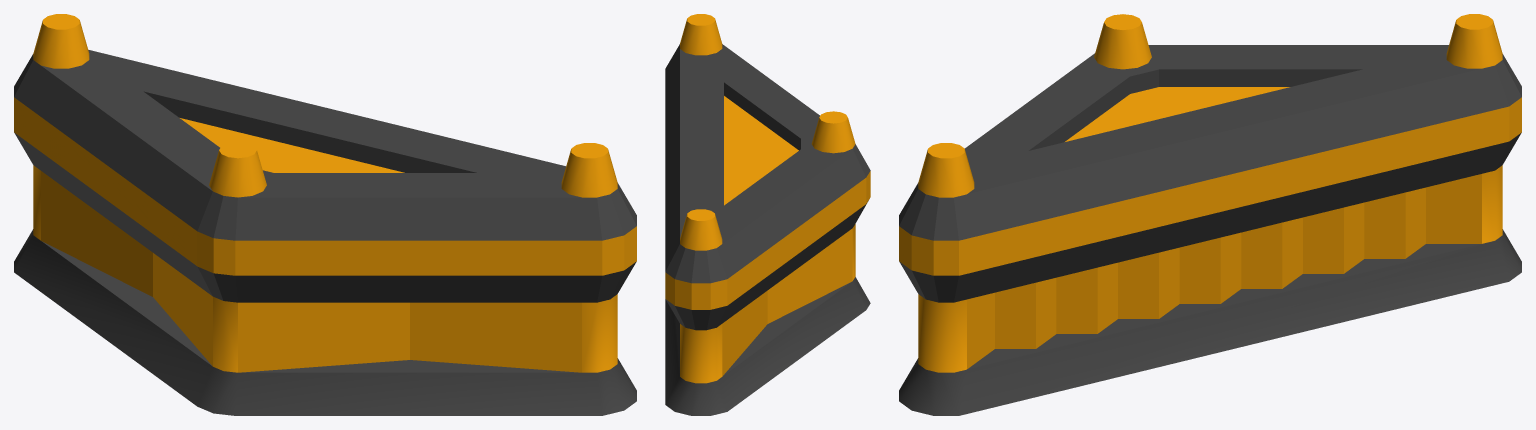
File: KickerIsosceles.fbx
3 renders of one model, left to right at view 1: azimuth 30°, elevation 25°; view 2: azimuth 150°, elevation 25°; view 3: azimuth 270°, elevation 25°, orthographic. The views are drawn at different scales.
Parts seen in each view (by area): view 1: KickerIsosceles; view 2: KickerIsosceles; view 3: KickerIsosceles.
Boxes of the visible parts, <box> form: KickerIsosceles: <box>14,14,636,415</box>; KickerIsosceles: <box>665,14,870,415</box>; KickerIsosceles: <box>899,14,1521,415</box>.
Bounding box in the file's own units: 103 × 70 × 161.
